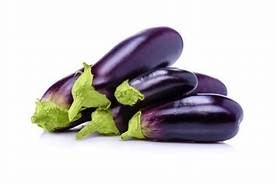fruit_eggplant: (65, 23, 185, 122), (117, 89, 247, 145)
